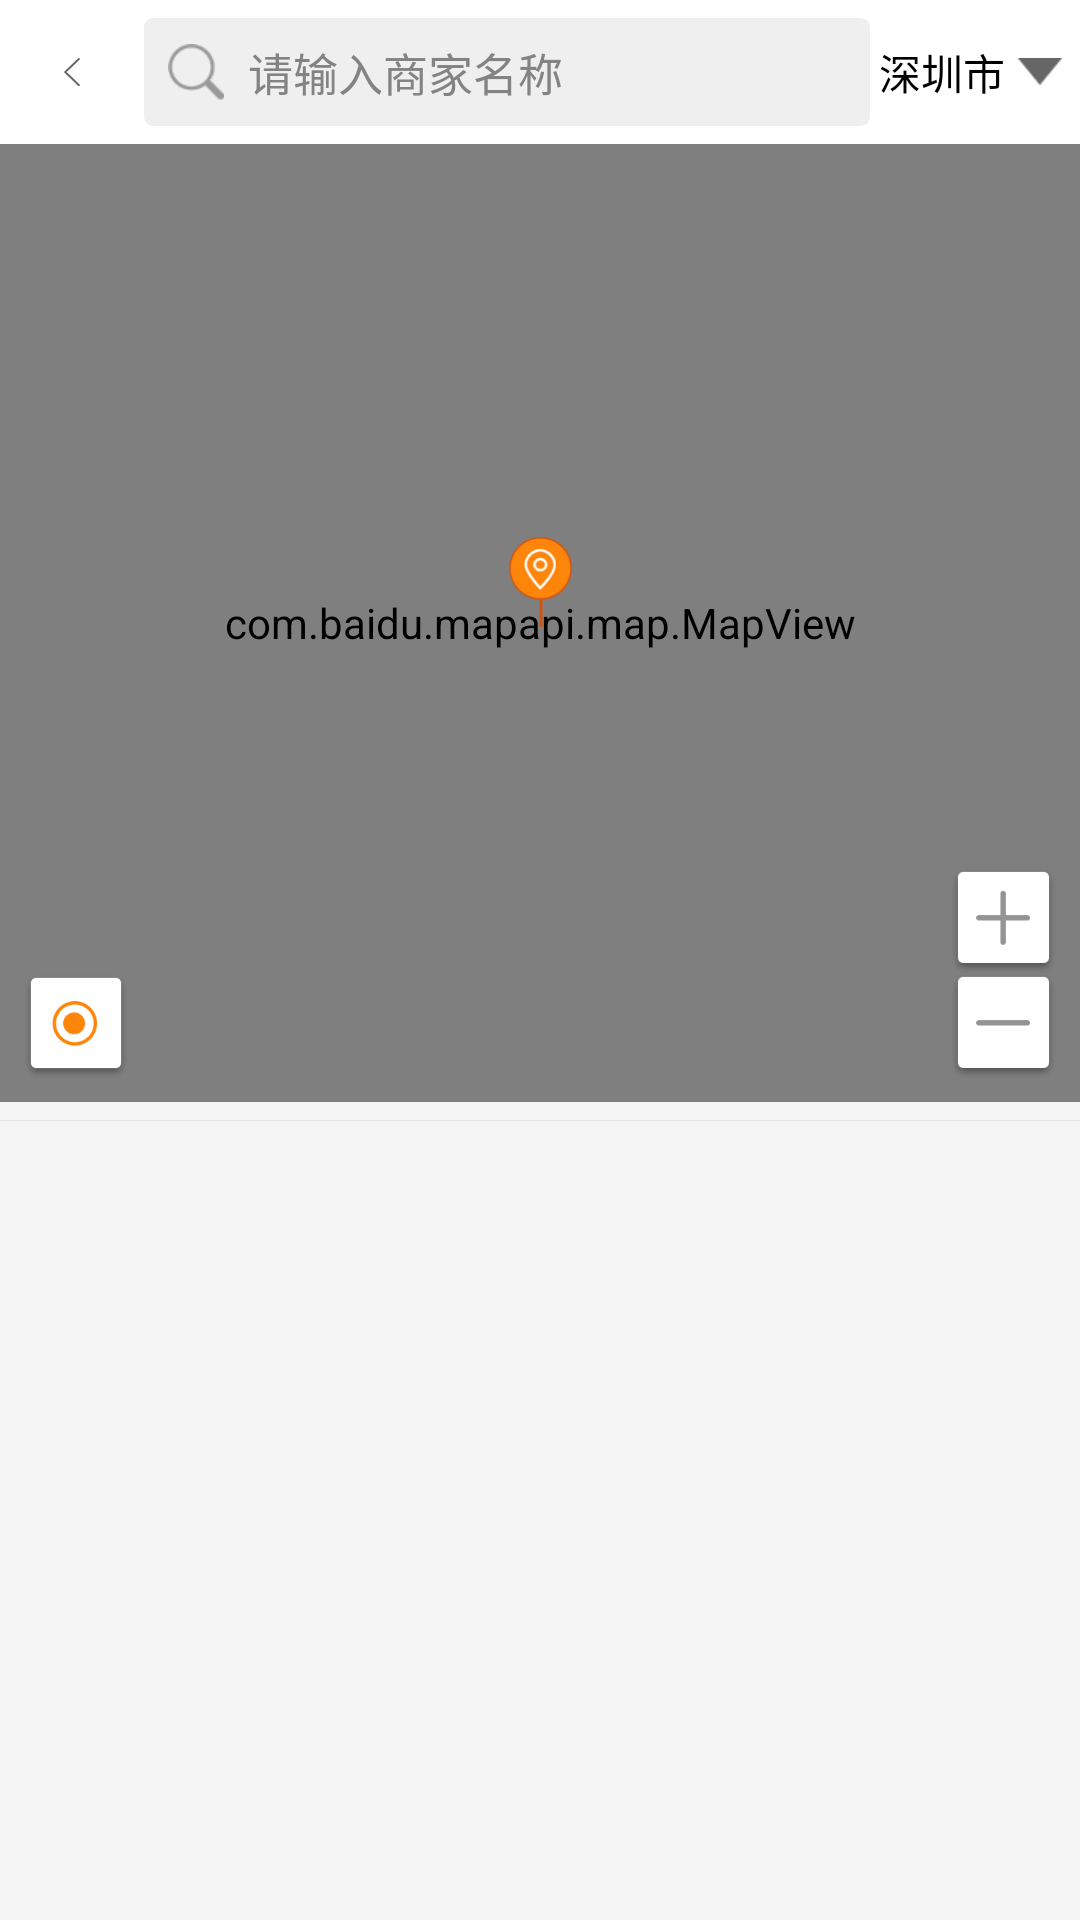

Icon bounding boxes for this 1080 × 1920 phone screenshot, format [x1=x1, y1=y1, x2=x2, y2=y2]:
down: [x1=1018, y1=58, x2=1062, y2=85]
gcoding: [x1=509, y1=537, x2=573, y2=627]
location: [x1=31, y1=978, x2=121, y2=1071]
plus: [x1=958, y1=872, x2=1049, y2=967]
reduce: [x1=958, y1=977, x2=1049, y2=1071]
search: [x1=168, y1=44, x2=224, y2=100]
